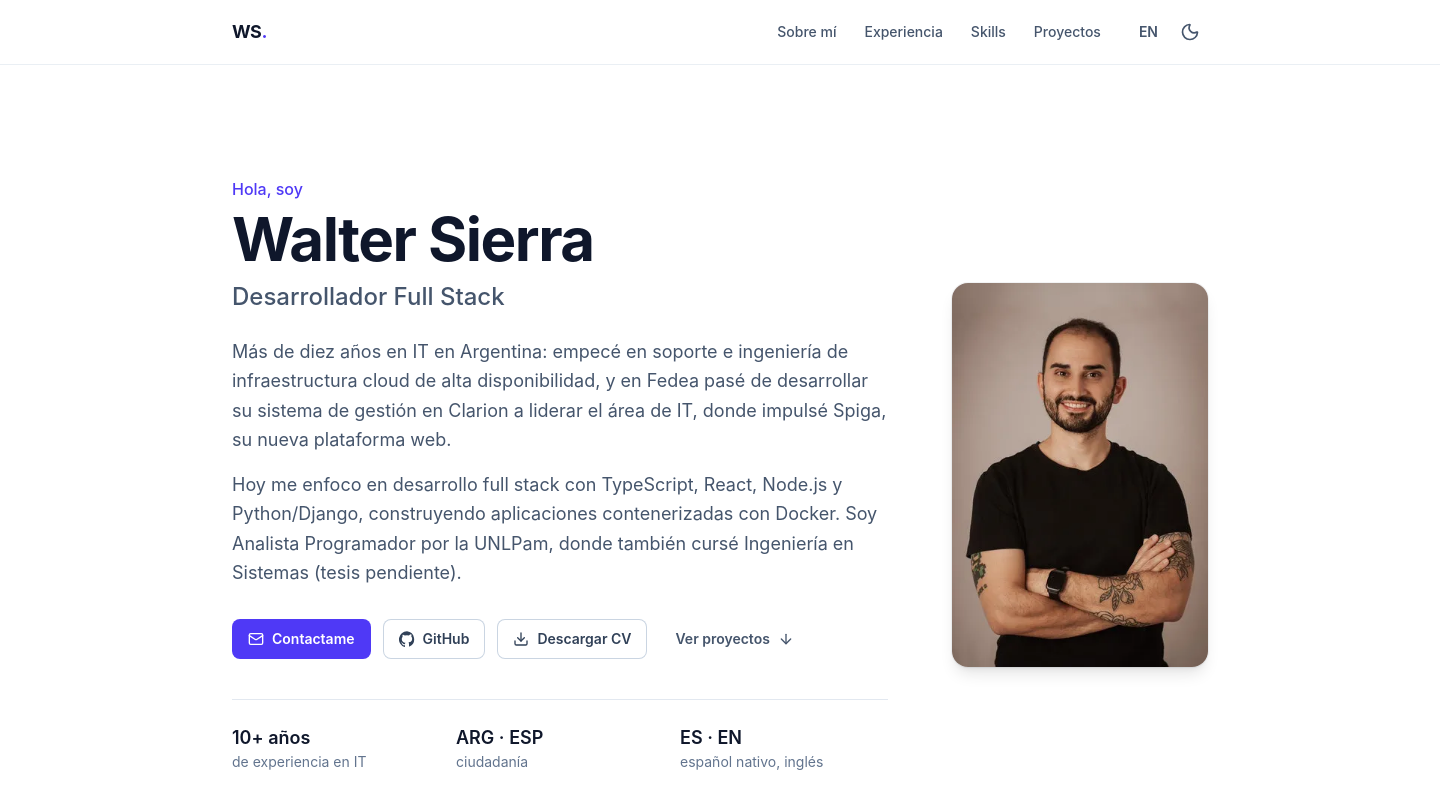
Test: App › cambia a inglés: traduce la UI y el contenido, actualiza el documento y lo persiste
Expected: the text "Desarrollador Full Stack" is shown, [232, 282, 505, 311]
Click the button named "Switch to English". click: (1148, 32)
box: [1129, 14, 1168, 50]
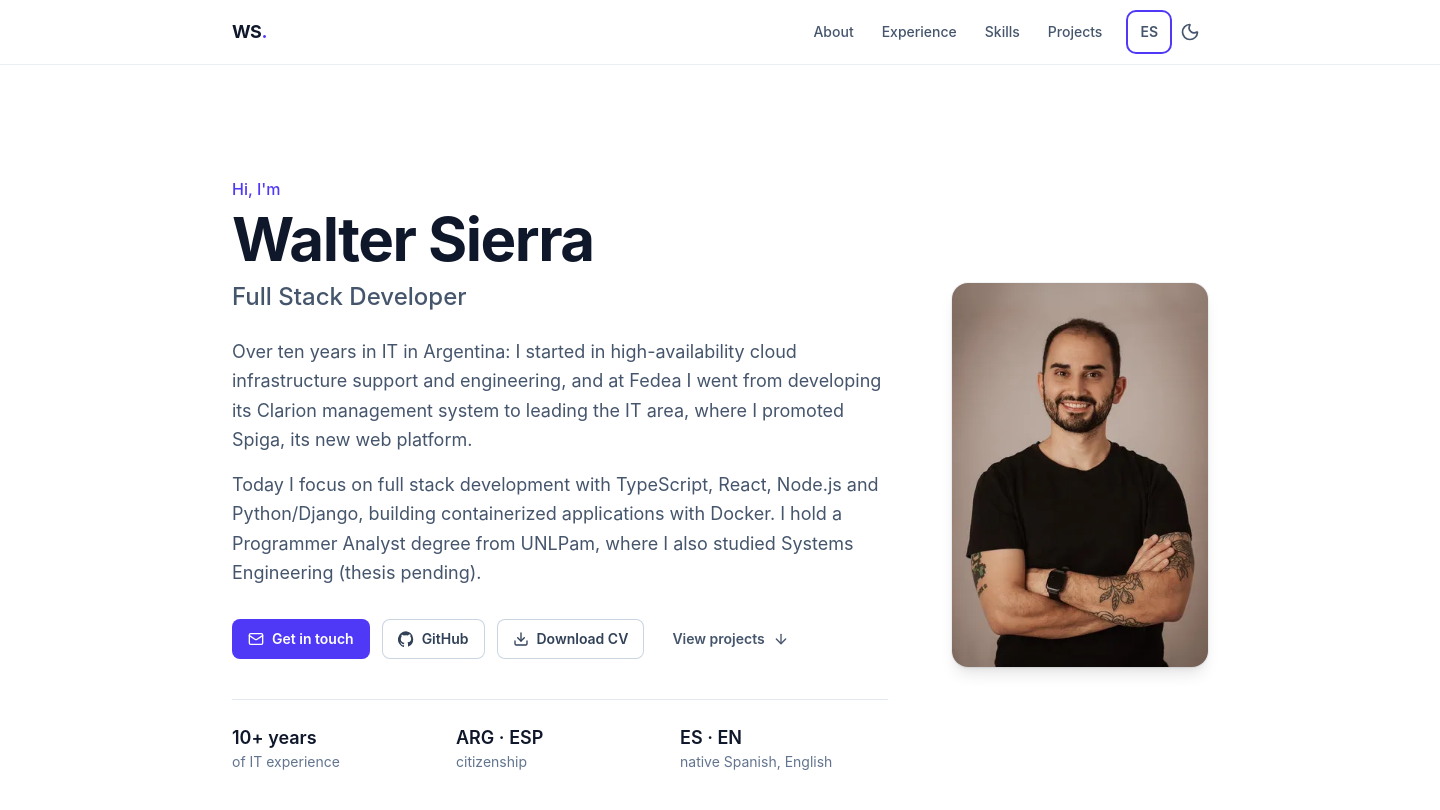
Now the navigation bar named "Main" shows "About", box [801, 14, 866, 50]
Now the navigation bar named "Main" shows "Experience", box [870, 14, 969, 50]
Now the navigation bar named "Main" shows "Projects", box [1036, 14, 1114, 50]
# y vuelve a español
Click the button named "Cambiar a español". click: (1149, 32)
box: [1130, 14, 1168, 50]
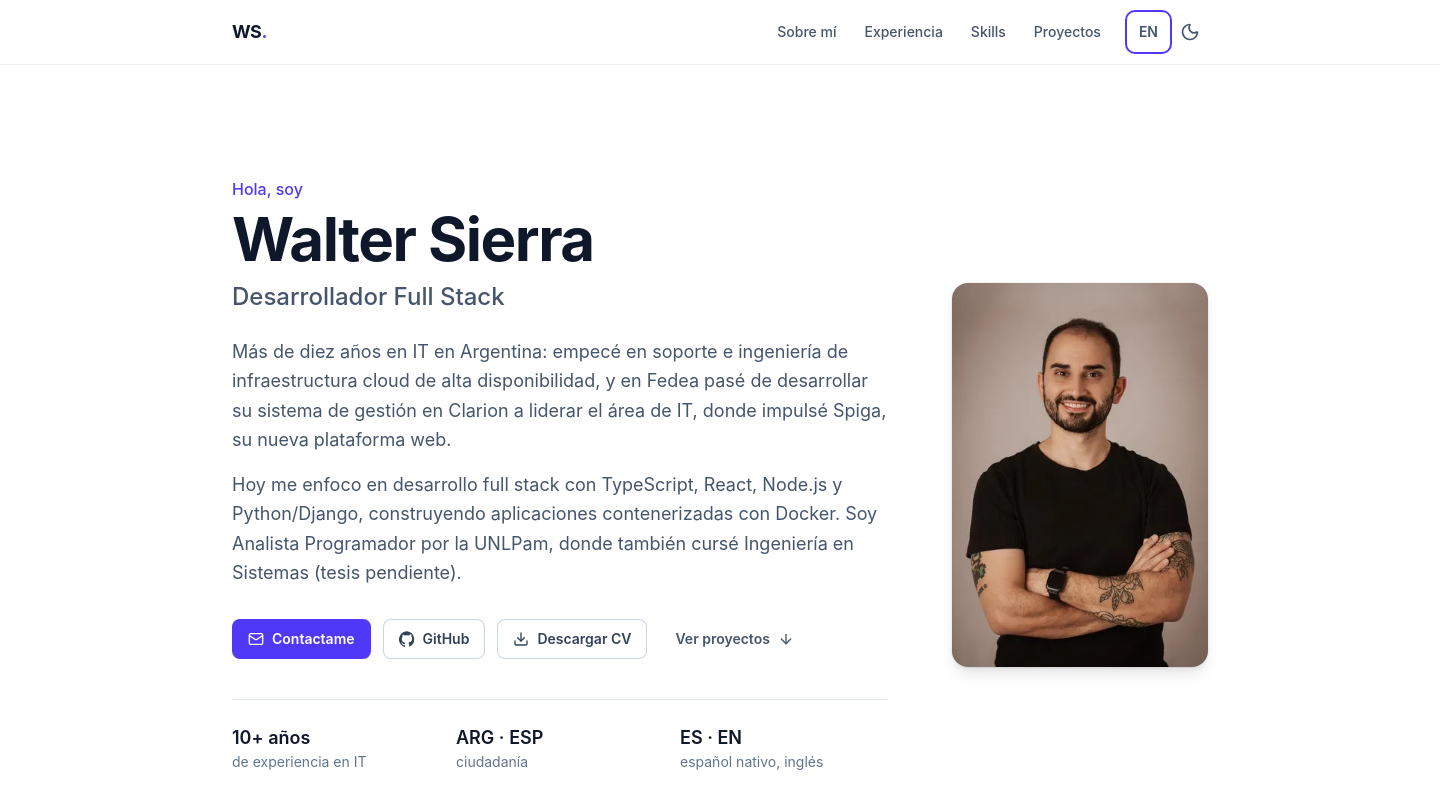
Now the navigation bar named "Principal" shows "Sobre mí", box [765, 14, 848, 50]
